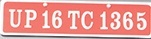character: (8, 8, 22, 28), (80, 10, 94, 30), (67, 9, 80, 30), (23, 9, 37, 28), (50, 9, 62, 28), (135, 11, 146, 30), (109, 11, 120, 29), (122, 11, 132, 30), (41, 9, 50, 29), (99, 11, 108, 30)
